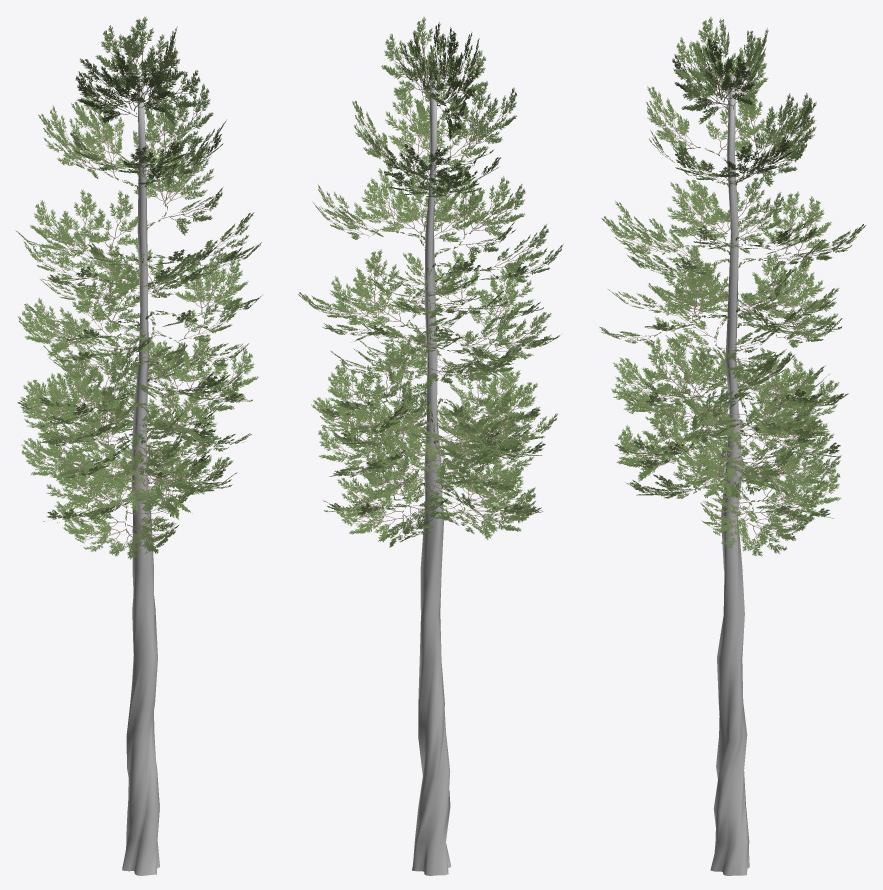
Rendered from tree4.obj.
3 renders of one model, left to right at view 1: azimuth 30°, elevation 25°; view 2: azimuth 150°, elevation 25°; view 3: azimuth 270°, elevation 25°, orthographic.
Parts seen in each view (by area): view 1: tree4; view 2: tree4; view 3: tree4.
Part boxes in pixels (x1,y1,x2,y2): tree4: [15, 16, 262, 875]; tree4: [298, 17, 563, 875]; tree4: [599, 17, 865, 875].
Bounding box in the file's own units: 1.54 × 5.42 × 1.59.
